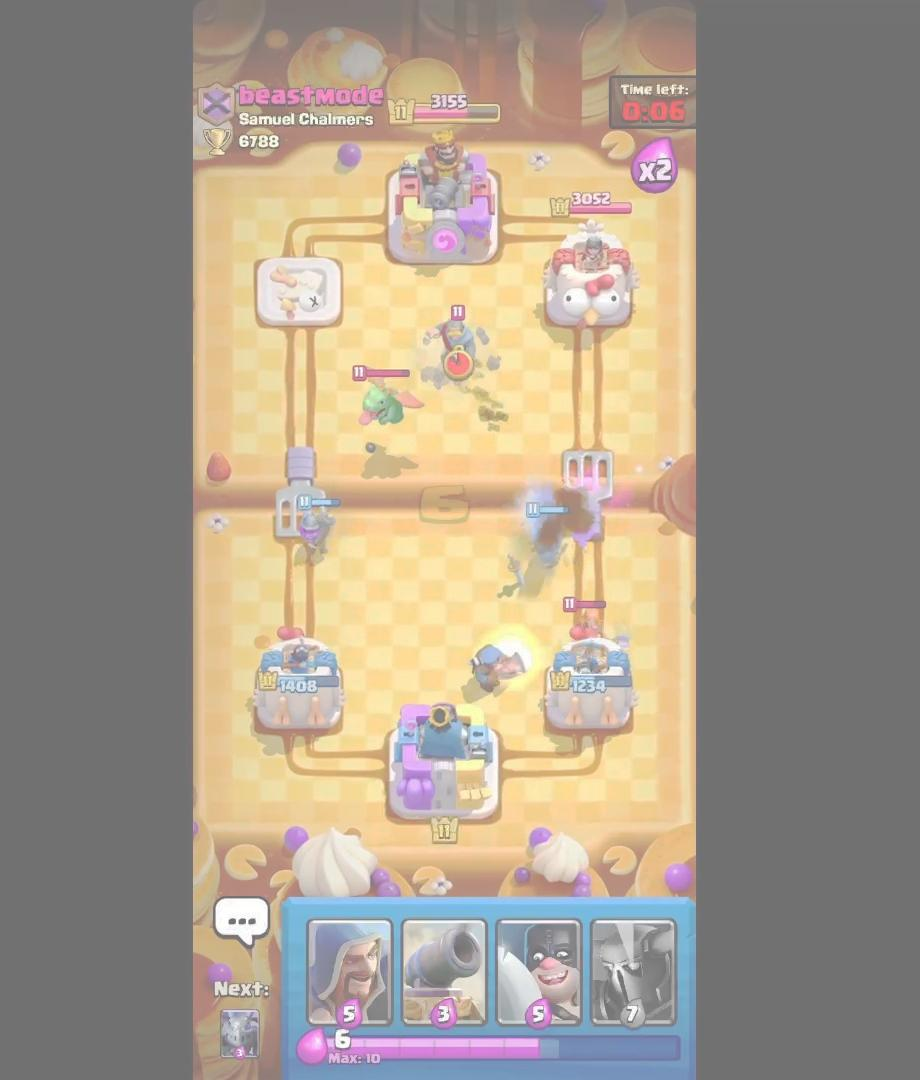Baby Dragon: (348, 363, 421, 435)
Knight: (426, 296, 495, 380)
Valkyrie: (556, 594, 626, 669)
